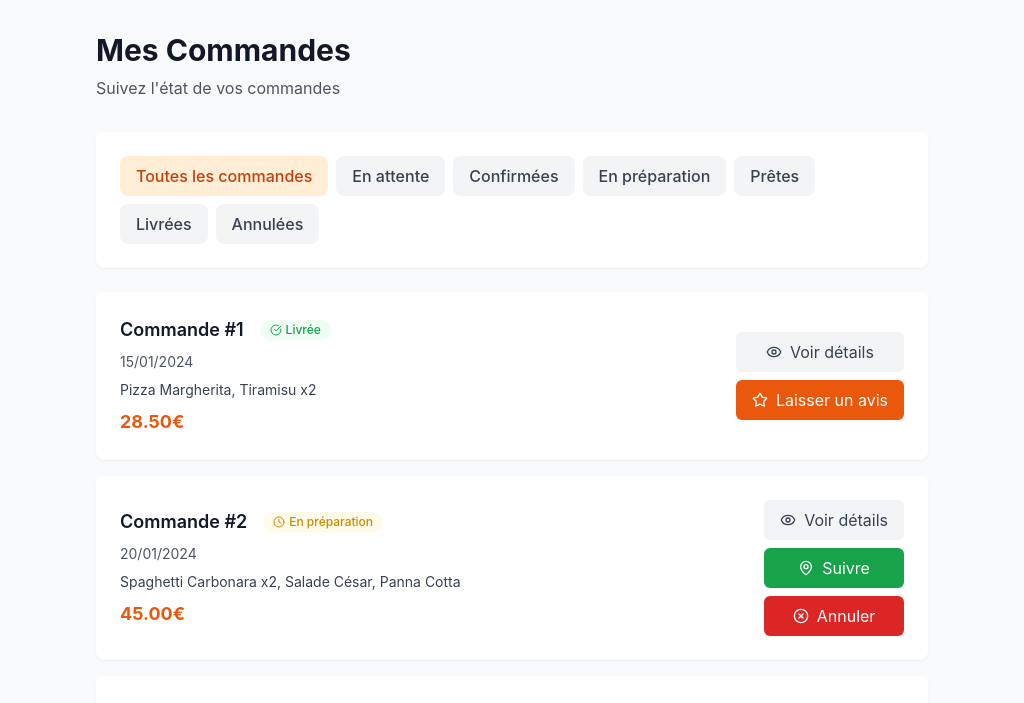
Scenario: Orders Component › should toggle order details when "Voir détails" button is clicked
Expected: the text "Détails de la commande" is not shown
# Click to show details
Click the button "Voir détails" in the row of "15/01/2024": coordinates (820, 352) [736, 332, 904, 372]
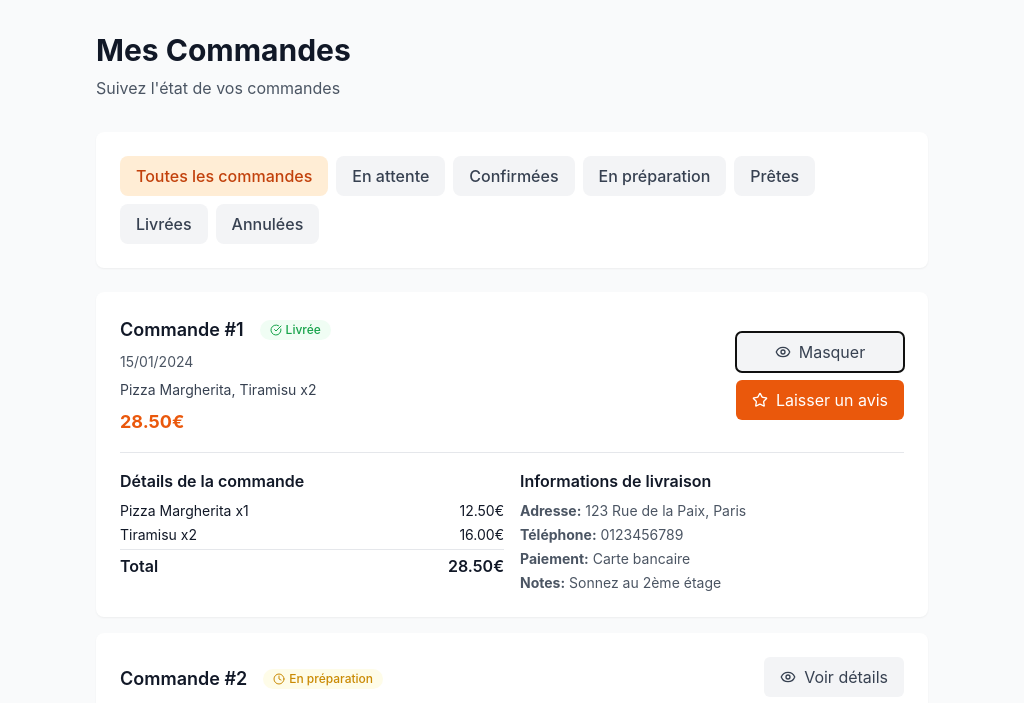
Result: the heading "Détails de la commande" is shown at [120, 471, 304, 491]
Result: the text "Masquer" is shown at [799, 340, 865, 364]
# Click to hide details
Click the button "Masquer": coordinates (820, 352) [736, 332, 904, 372]
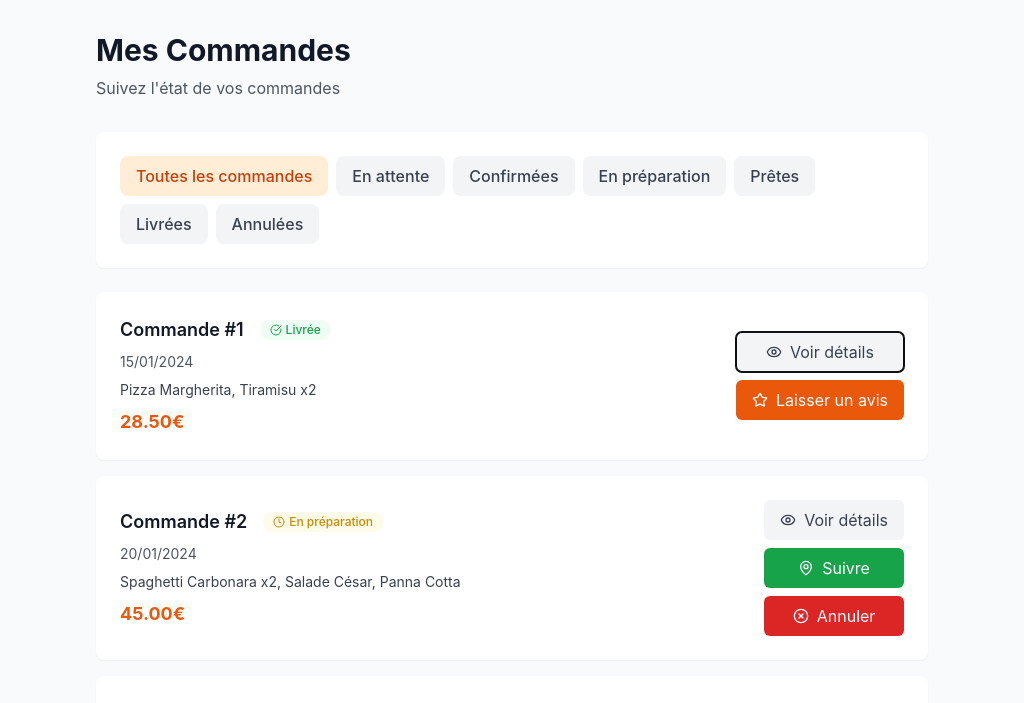
Result: the heading "Détails de la commande" is gone
